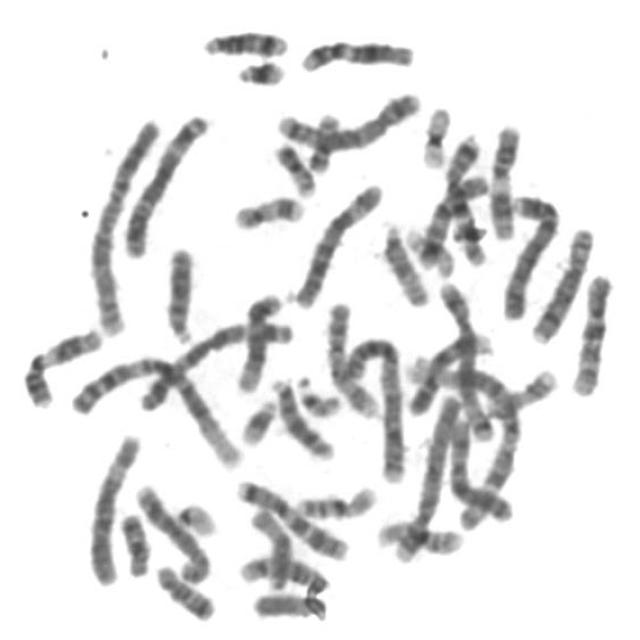A1: (392, 353, 528, 535), (64, 345, 245, 470)
A2: (83, 110, 164, 338), (339, 329, 408, 485)
A3: (129, 310, 296, 413), (115, 104, 212, 260)
B4: (387, 386, 466, 564), (495, 186, 563, 322)
B5: (430, 272, 498, 443), (269, 83, 424, 153)
C10: (410, 166, 492, 272), (564, 264, 618, 399)
C11: (15, 320, 106, 410), (484, 115, 525, 241)
C12: (229, 285, 287, 395), (292, 31, 418, 73)
C6: (287, 174, 387, 310), (80, 425, 145, 589)
C7: (228, 472, 352, 562), (438, 124, 490, 269)
C8: (128, 476, 215, 585), (523, 219, 598, 345)
C9: (401, 322, 498, 418), (318, 293, 380, 420)
D13: (266, 370, 338, 462), (157, 238, 198, 346)
D14: (233, 554, 329, 600), (196, 21, 291, 59)
D15: (376, 213, 433, 309), (244, 501, 294, 592)
E16: (369, 512, 466, 557), (288, 477, 380, 522)
E17: (478, 361, 560, 421), (226, 187, 308, 231)
E18: (148, 556, 218, 623), (112, 504, 153, 580)
F19: (398, 219, 458, 278), (414, 98, 453, 171)
F20: (266, 133, 320, 198), (300, 102, 344, 176)
G21: (233, 390, 280, 448), (229, 50, 288, 88)
G22: (290, 367, 344, 419), (169, 496, 219, 538)
X: (441, 413, 515, 524)
Y: (246, 585, 330, 622)
